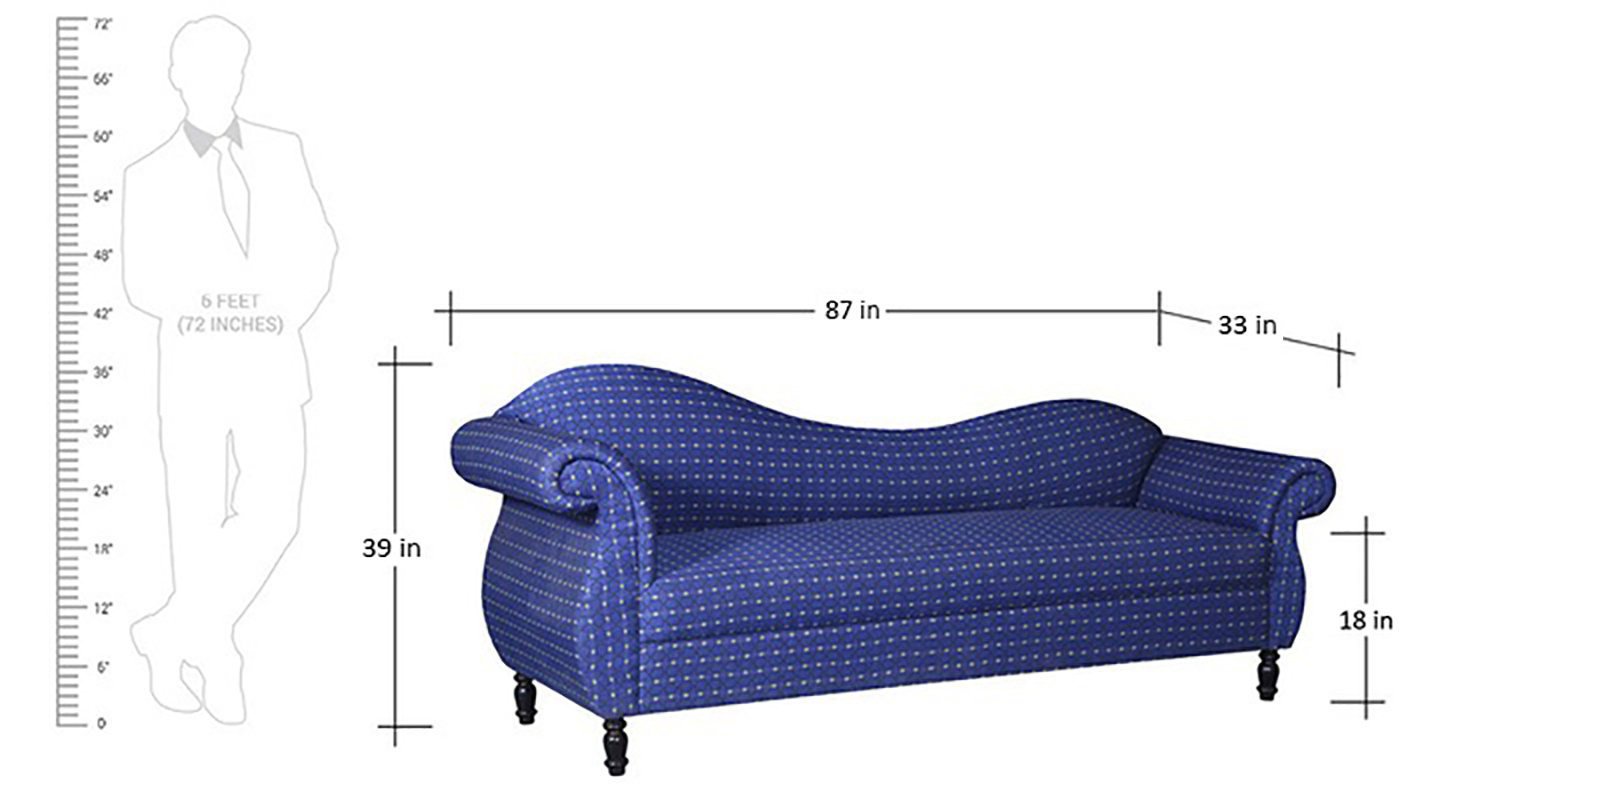Bayley Three Seater Sofa in Blue Color by Amberville: (440, 365, 1340, 731)
